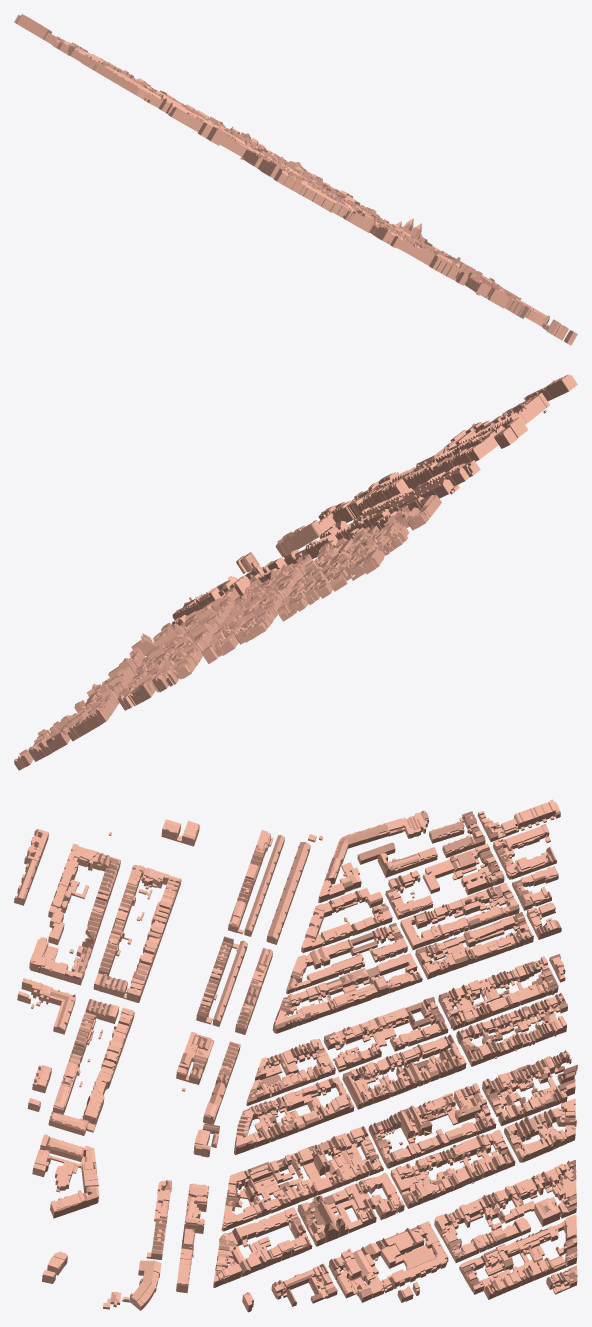
3 views of the same model, one above another, from view 1: azimuth 30°, elevation 25°; view 2: azimuth 150°, elevation 25°; view 3: azimuth 270°, elevation 25° (orthographic). The views are drawn at different scales.
Bounding box in the file's own units: 1.76e+07 × 1.28e+07 × 2.06e+07.
